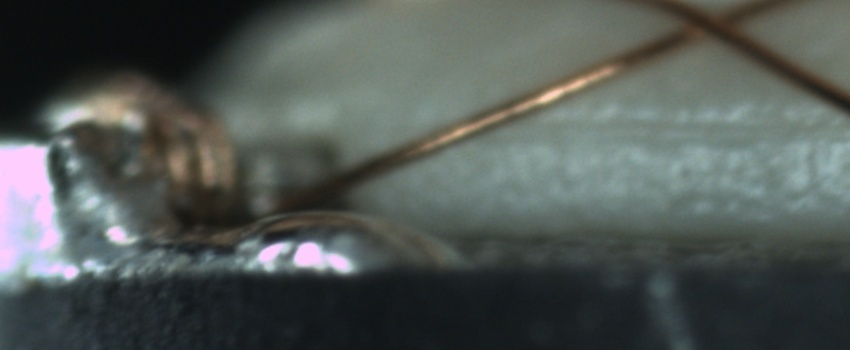CL: (666, 2, 751, 46)
DL: (492, 97, 850, 163)
TE: (54, 58, 251, 237)
